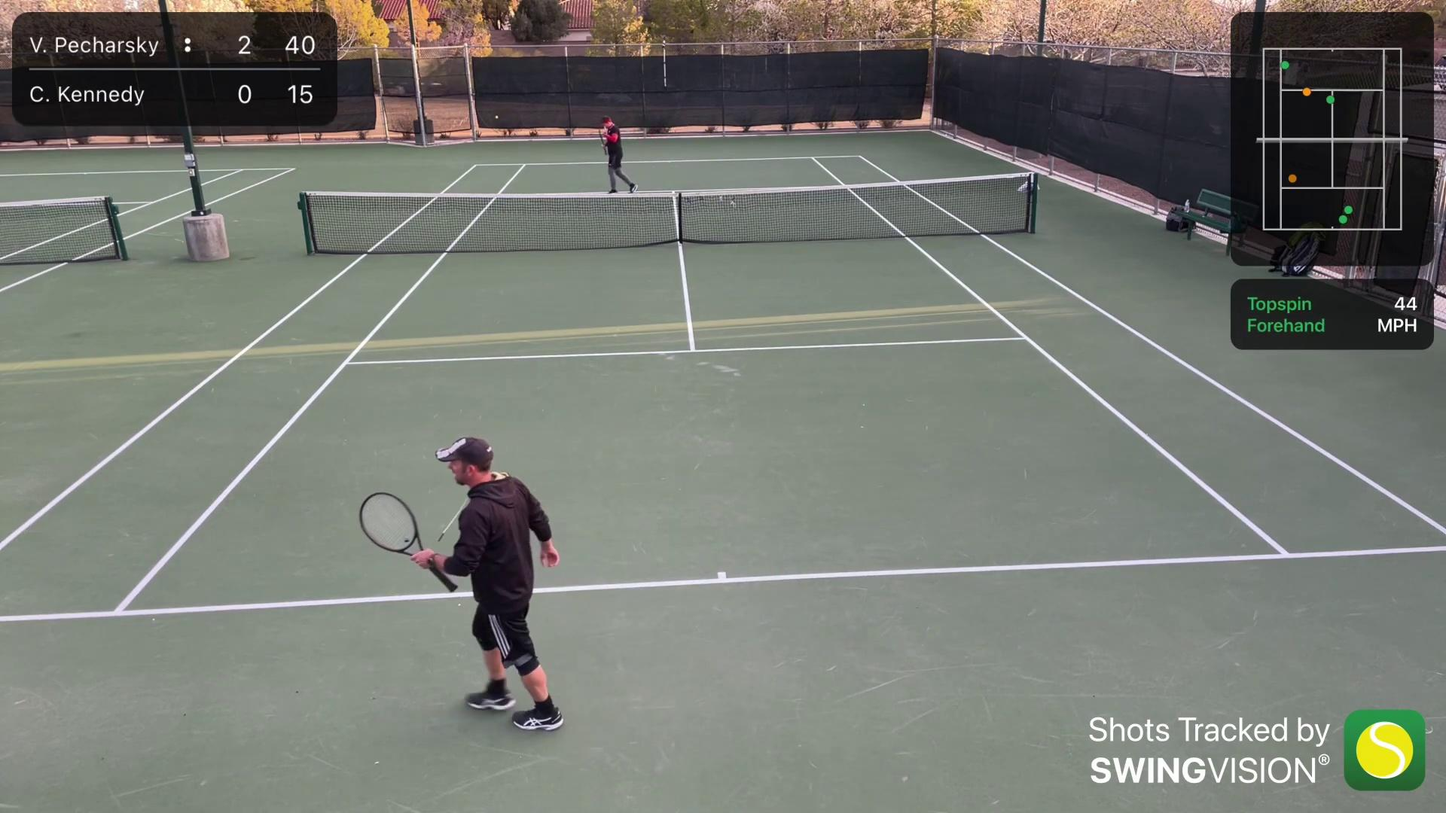ball: (493, 114, 500, 121)
